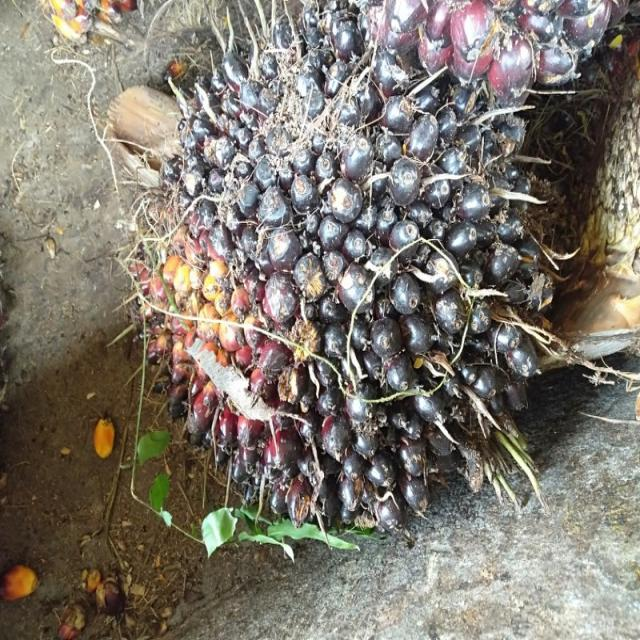fraksi 00: (129, 20, 552, 535)
